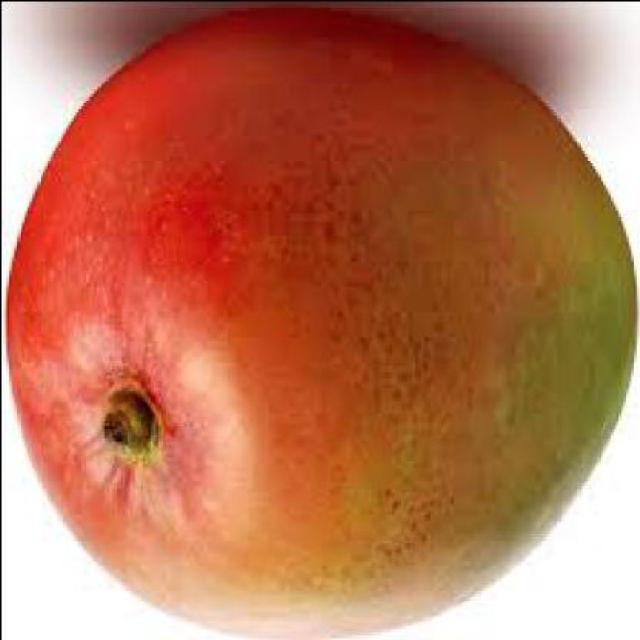BIODEGRADABLE: (2, 3, 636, 639)
